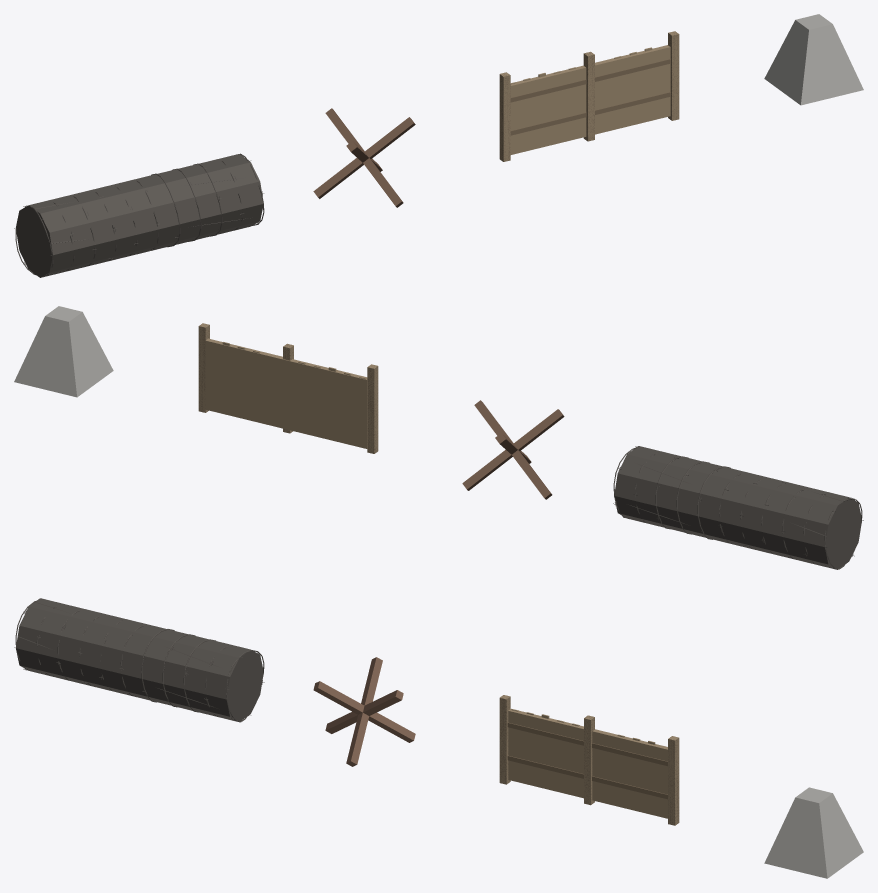
File: props_3.glb
3 views of the same model, one above another, from view 1: azimuth 30°, elevation 25°; view 2: azimuth 150°, elevation 25°; view 3: azimuth 330°, elevation 25° (orthographic).
Visible parts, largest first — view 1: COL_wire_coil, COL_fence_wood, COL_dragons_tooth, fence_wood, COL_hedgehog, dragons_tooth, wire_coil; view 2: COL_wire_coil, COL_fence_wood, COL_dragons_tooth, dragons_tooth, COL_hedgehog, wire_coil, fence_wood, hedgehog; view 3: COL_wire_coil, COL_fence_wood, COL_dragons_tooth, dragons_tooth, fence_wood, COL_hedgehog, wire_coil, hedgehog.
Part boxes in pixels (bbox=[...]): COL_wire_coil: bbox=[16, 154, 263, 277]; COL_fence_wood: bbox=[499, 31, 679, 161]; COL_dragons_tooth: bbox=[764, 14, 863, 105]; fence_wood: bbox=[499, 31, 679, 161]; COL_hedgehog: bbox=[313, 108, 415, 207]; dragons_tooth: bbox=[766, 14, 863, 104]; wire_coil: bbox=[14, 153, 264, 277]; COL_wire_coil: bbox=[614, 446, 861, 569]; COL_fence_wood: bbox=[198, 323, 378, 453]; COL_dragons_tooth: bbox=[14, 306, 113, 397]; dragons_tooth: bbox=[14, 306, 112, 397]; COL_hedgehog: bbox=[462, 400, 564, 499]; wire_coil: bbox=[613, 446, 863, 569]; fence_wood: bbox=[198, 324, 378, 453]; hedgehog: bbox=[463, 400, 563, 498]; COL_wire_coil: bbox=[16, 598, 263, 721]; COL_fence_wood: bbox=[499, 695, 679, 825]; COL_dragons_tooth: bbox=[764, 787, 863, 878]; dragons_tooth: bbox=[765, 788, 862, 877]; fence_wood: bbox=[499, 695, 679, 825]; COL_hedgehog: bbox=[313, 657, 415, 766]; wire_coil: bbox=[14, 600, 264, 722]; hedgehog: bbox=[314, 657, 412, 760].
Bounding box in the file's own units: 11.59 × 1.18 × 1.26.
